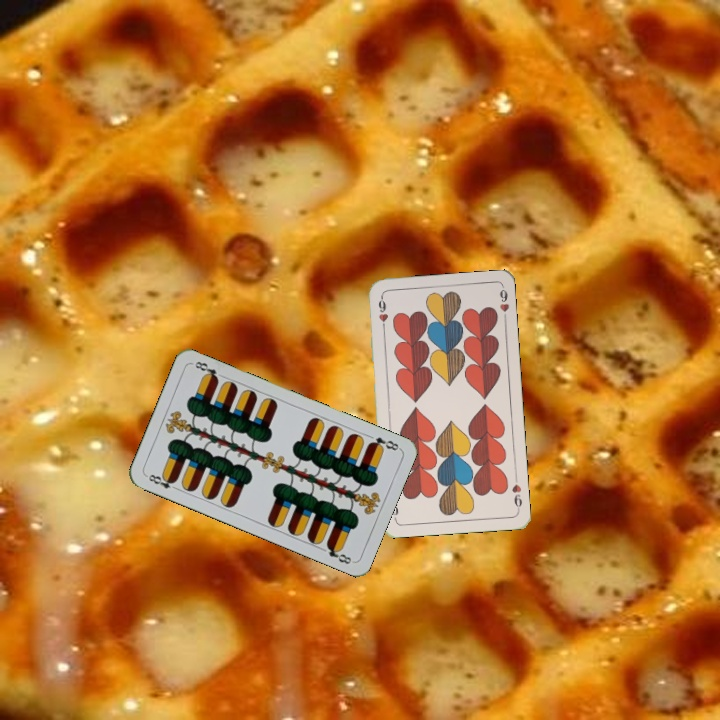E8: (143, 470, 181, 493), (364, 433, 402, 453)
H9: (508, 473, 525, 513), (374, 293, 391, 333)
